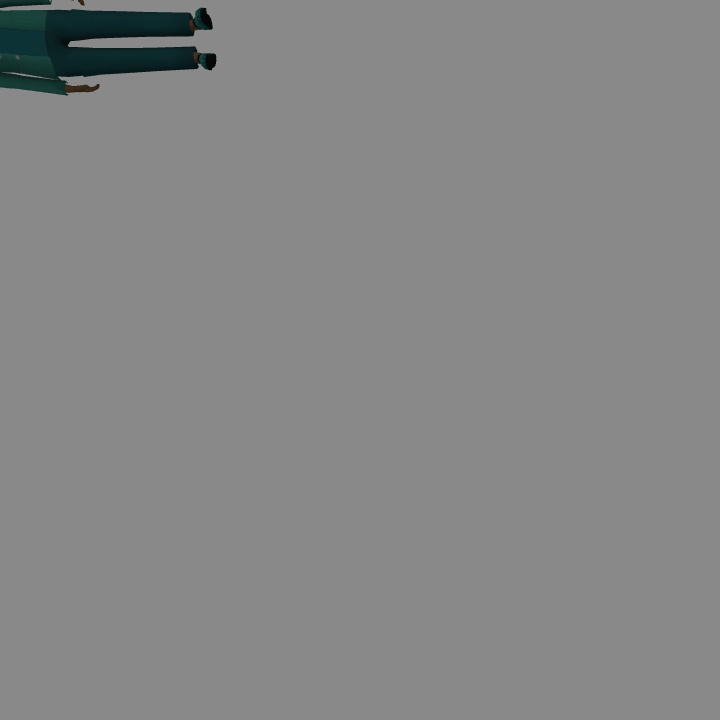victim: (1, 1, 214, 89)
